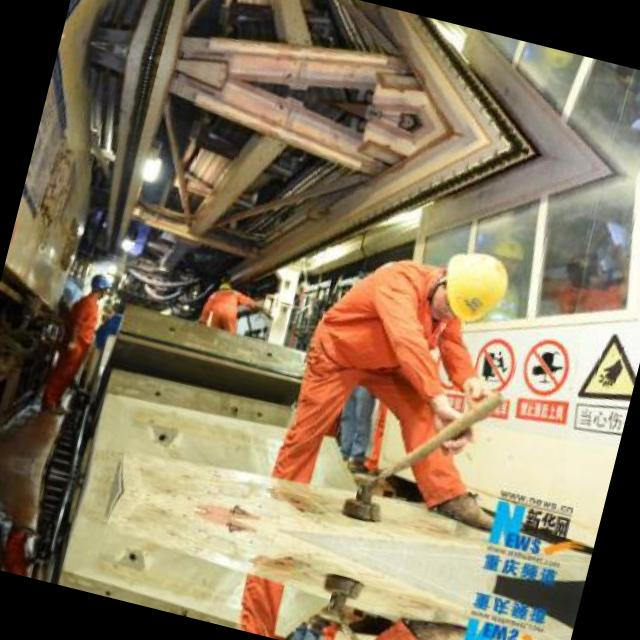helmet: (422, 237, 520, 338), (86, 269, 114, 306)
